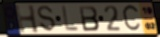2: (104, 5, 122, 32)
B: (78, 5, 101, 32)
C: (121, 3, 143, 34)
H: (14, 4, 41, 35)
L: (61, 5, 80, 33)
S: (36, 5, 57, 33)
